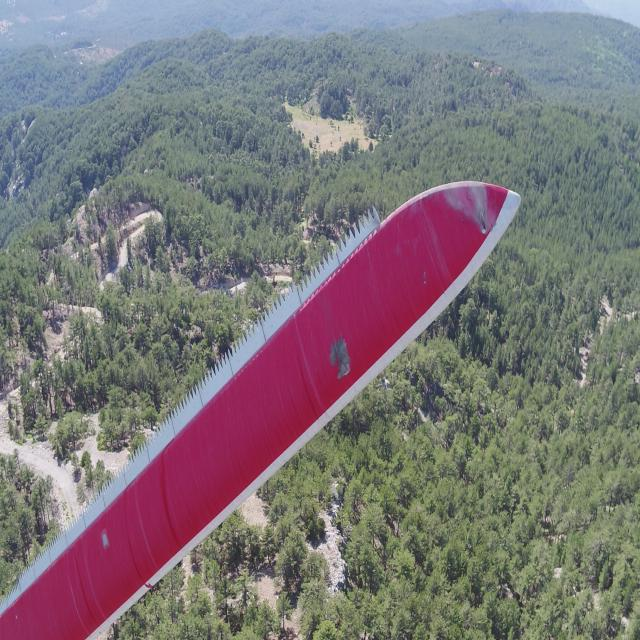Burn Mark: (477, 219, 490, 236)
Coating_defects: (325, 335, 357, 381)
